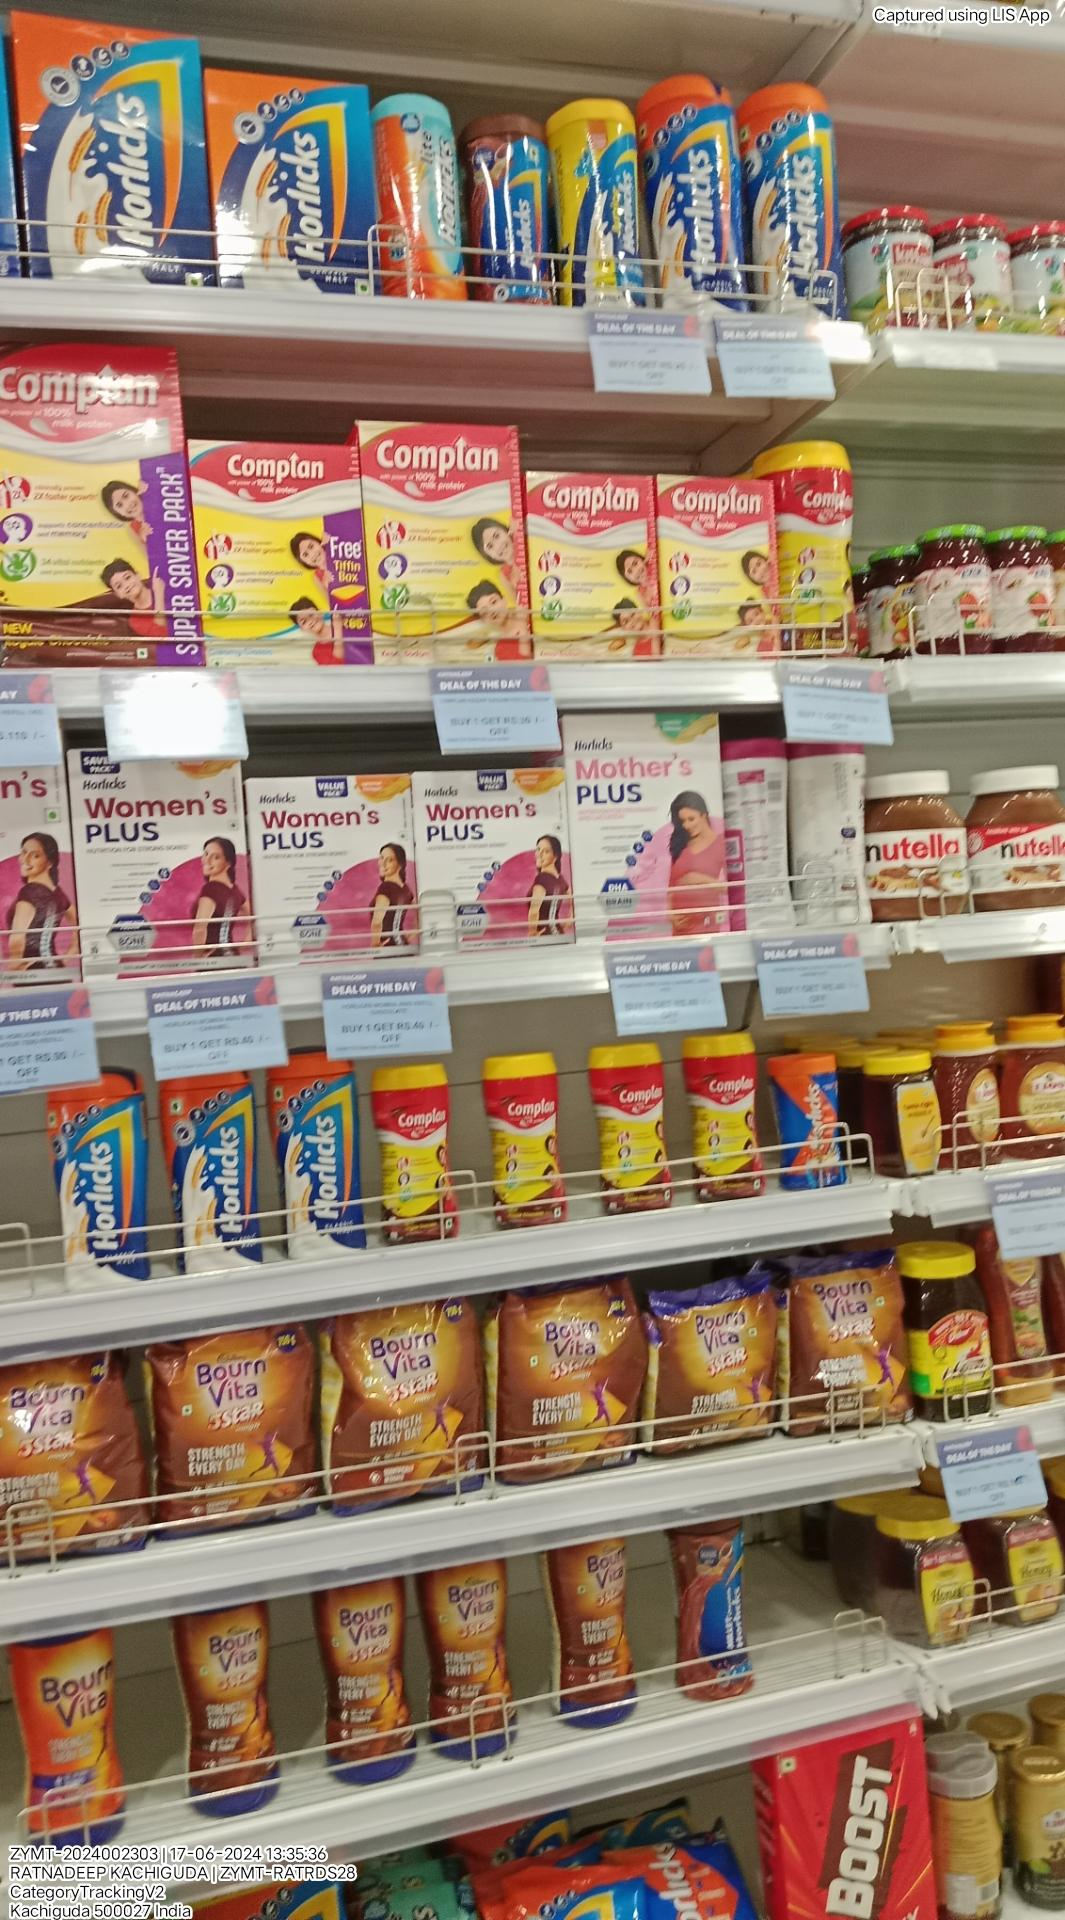BOURN_VITA_1_KG_JAR: (165, 1071, 262, 1273), (273, 1064, 367, 1255)
BOURN_VITA_500_G_JAR: (9, 1635, 127, 1845)
BOURN_VITA_FIVE_STAR_MAGIC_500_G_JAR: (167, 1614, 290, 1811), (313, 1592, 414, 1782), (426, 1570, 518, 1760), (544, 1545, 636, 1730)
BOURN_VITA_FIVE_STAR_MAGIC_500_G_POUCH: (786, 1263, 919, 1420), (658, 1292, 779, 1448)
BOURN_VITA_FIVE_STAR_MAGIC_750_G_POUCH: (497, 1285, 652, 1481), (157, 1340, 323, 1520), (332, 1321, 489, 1500), (4, 1361, 146, 1561)
COMPLAN_CHOCOLATE_1_KG_PACK: (1, 334, 194, 664)
COMPLAN_CHOCOLATE_500_GMS_JAR: (669, 1515, 755, 1705), (790, 443, 862, 658), (374, 1068, 459, 1246), (588, 1041, 673, 1212), (488, 1047, 565, 1225), (687, 1040, 766, 1195)
COMPLAN_CREAMY_CLASSIC_500_G_PACK: (201, 442, 367, 665)
COMPLAN_KESAR_BADAM_200_GMS_PACK: (532, 471, 660, 657), (665, 476, 782, 657)
COMPLAN_KESAR_BADAM_500_GMS_PACK: (374, 420, 525, 654)
HORLICKS_JUNIOR_VANILLA_500_GM_JAR: (557, 101, 647, 308)
HORLICKS_LITE_REGULAR_MALT_500_GM_JAR: (380, 94, 468, 299)
HORLICK_CHOCOLATE_500_G_JAR: (473, 113, 548, 304)
HORLICK_CLASSIC_MALT_200_G_JAR: (776, 1062, 847, 1192)
HORLICK_CLASSIC_MALT_500_G_JAR: (49, 1087, 153, 1287)
HORLICK_CLASSIC_MALT_500_G_PACK: (218, 75, 372, 291)
